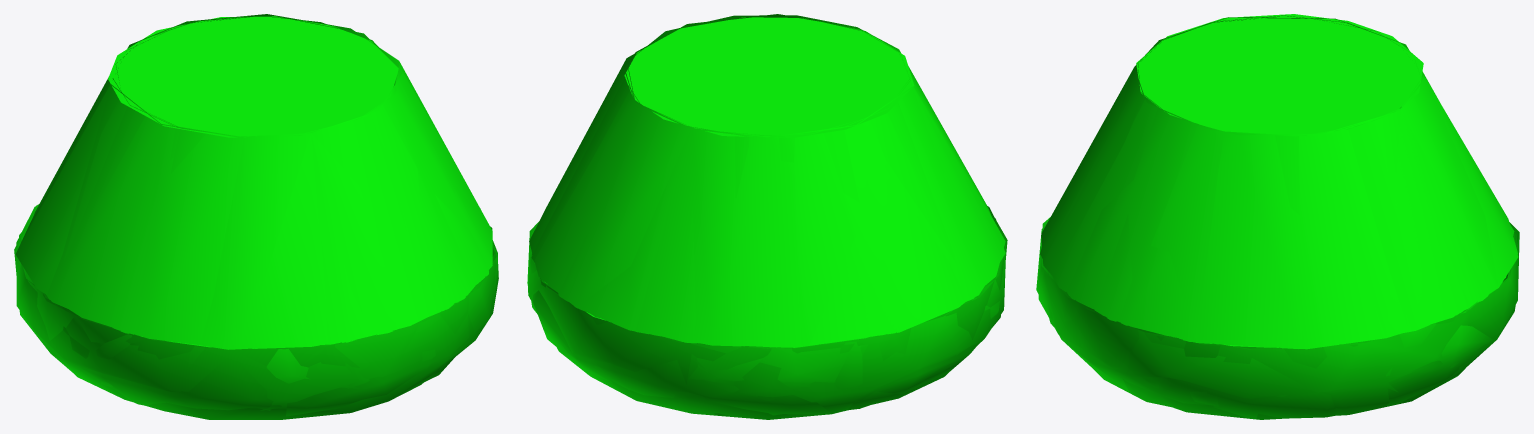
Rendered from liquid_green.glb.
3 renders of one model, left to right at view 1: azimuth 30°, elevation 25°; view 2: azimuth 150°, elevation 25°; view 3: azimuth 270°, elevation 25°, orthographic.
Parts seen in each view (by area): view 1: SketchUp; view 2: SketchUp; view 3: SketchUp.
Part boxes in pixels (bbox=[...]): SketchUp: bbox=[14, 14, 498, 419]; SketchUp: bbox=[527, 14, 1007, 419]; SketchUp: bbox=[1036, 14, 1519, 419].
Bounding box in the file's own units: 2.27 × 1.34 × 2.26.
